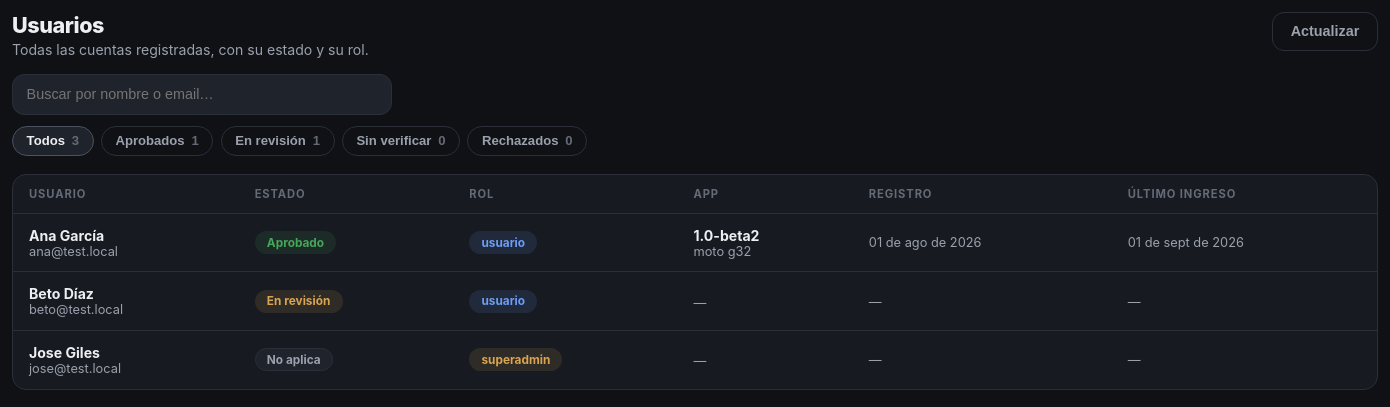
Test: UsersPage › la búsqueda filtra por nombre o email
Expected: the text "Ana García" is shown, x1=29 y1=227 x2=104 y2=244
Type "beto" into the search field named "Buscar usuarios" at (202, 94), box x1=12 y1=74 x2=392 y2=115
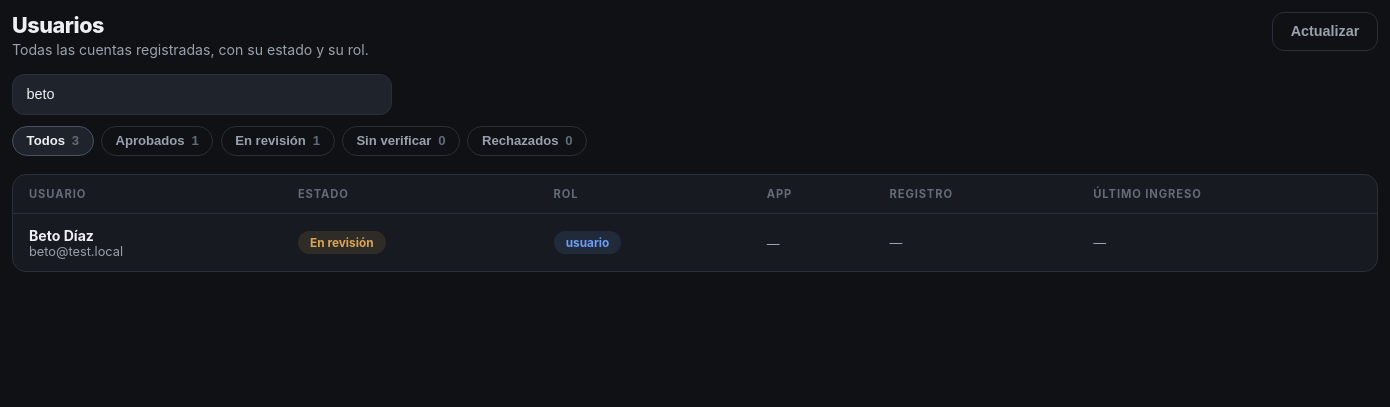
Expected: the text "Beto Díaz" is shown, x1=29 y1=227 x2=94 y2=244
Result: the text "Ana García" is gone
